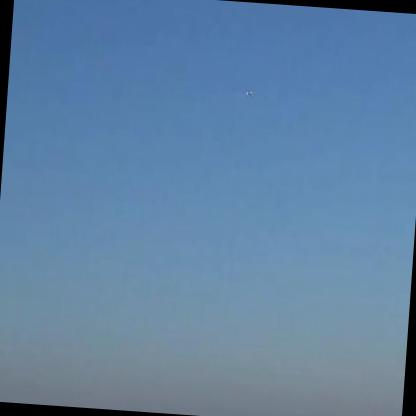plane: (246, 90, 254, 97)
